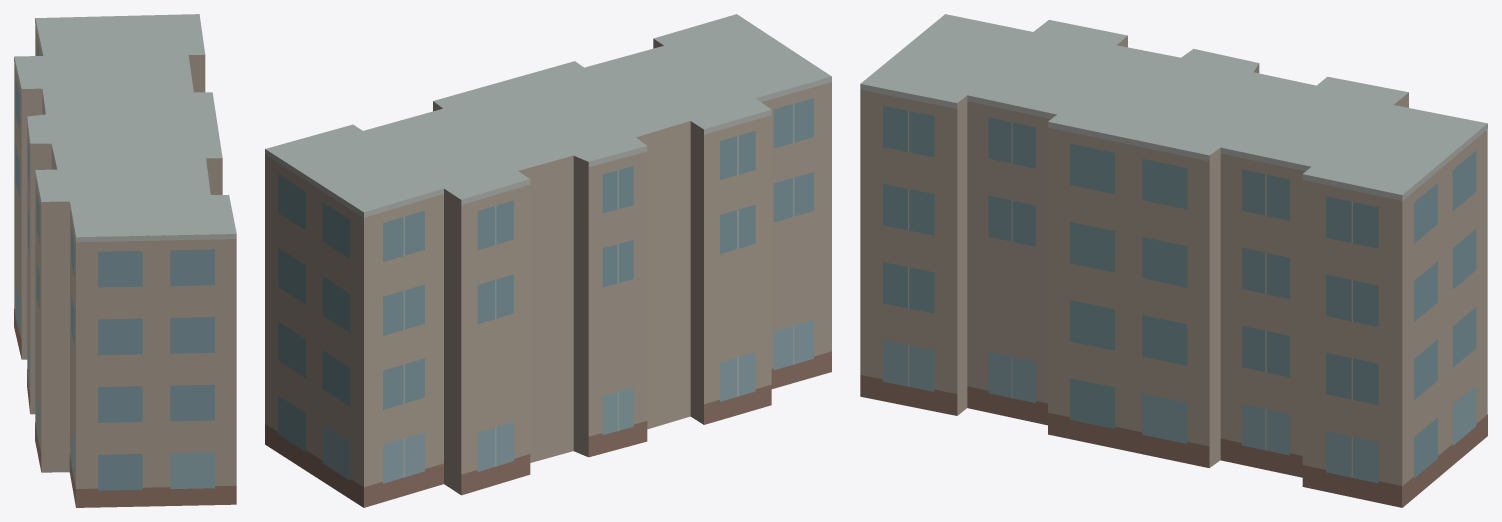
File: survey-upis-32524656.glb
The picture shows the model from 3 angles, left to right: view 1: azimuth 30°, elevation 25°; view 2: azimuth 150°, elevation 25°; view 3: azimuth 270°, elevation 25°; orthographic projection. The views are drawn at different scales.
Parts seen in each view (by area): view 1: survey-upis-32524656.tmp; view 2: survey-upis-32524656.tmp; view 3: survey-upis-32524656.tmp.
Boxes of the visible parts, <box> form: survey-upis-32524656.tmp: <box>14,14,236,507</box>; survey-upis-32524656.tmp: <box>265,14,831,507</box>; survey-upis-32524656.tmp: <box>860,14,1487,507</box>.
Size of the model in its own units: 16.28 by 13.1 by 23.83.
